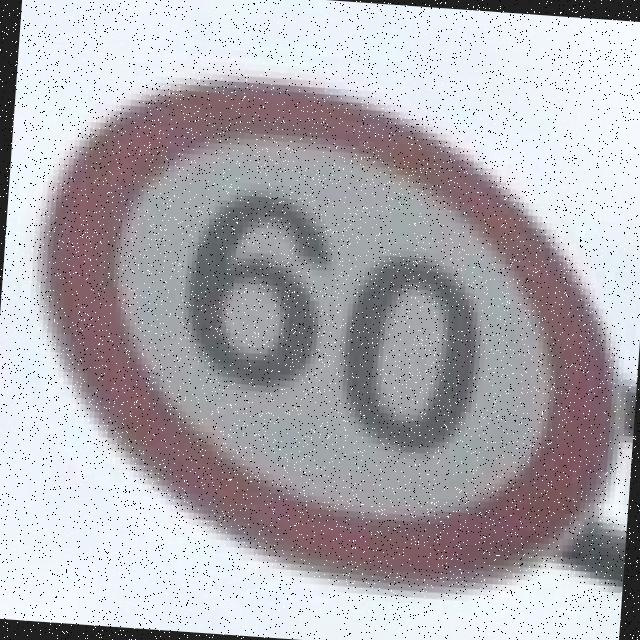Ograniczenie predkosci do 60: (7, 55, 640, 598)
